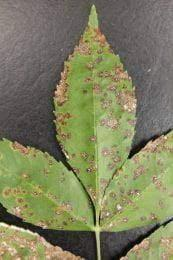leaf_spot: (8, 19, 171, 259)
